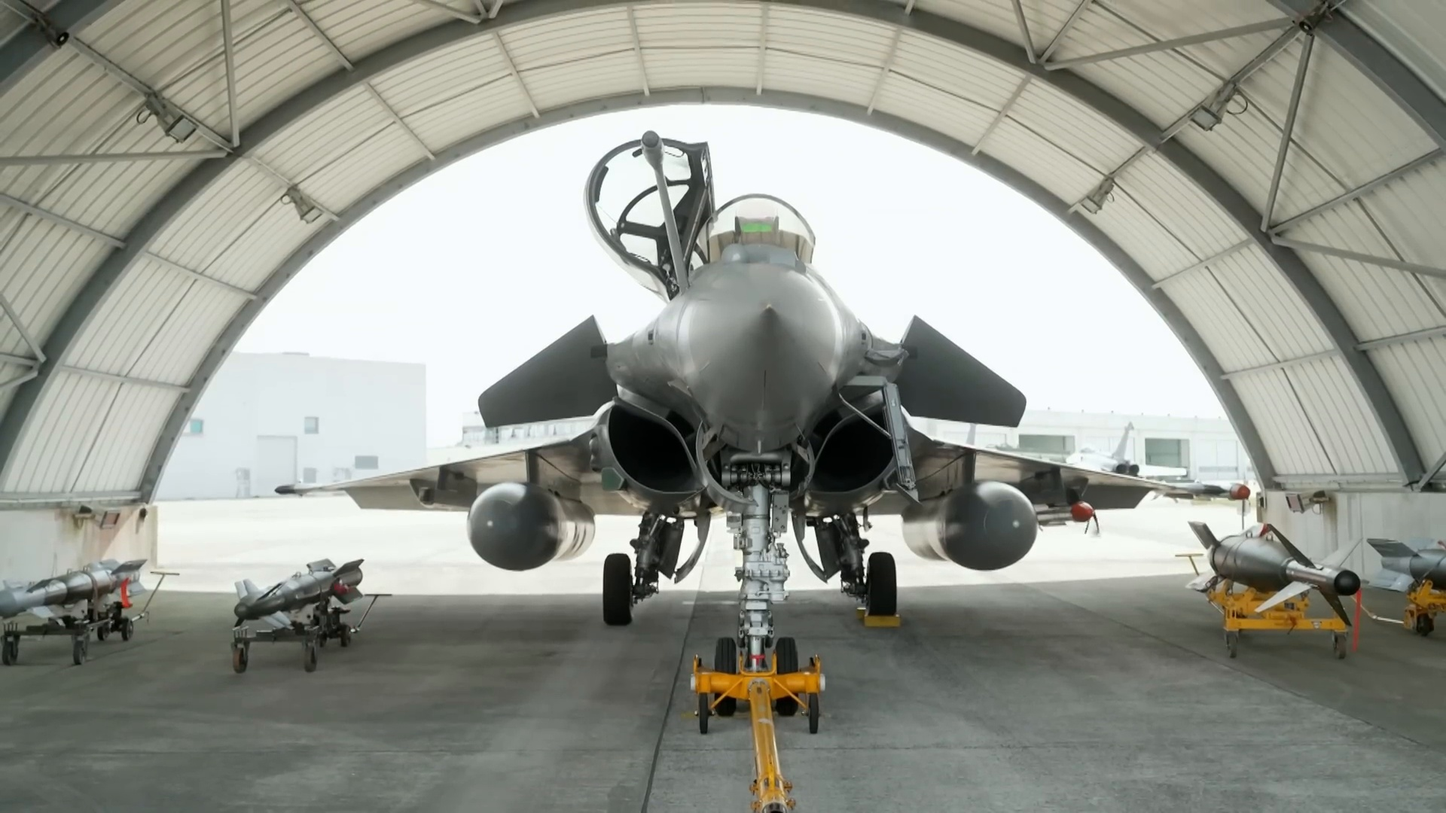Rafale: (274, 129, 1229, 626)
